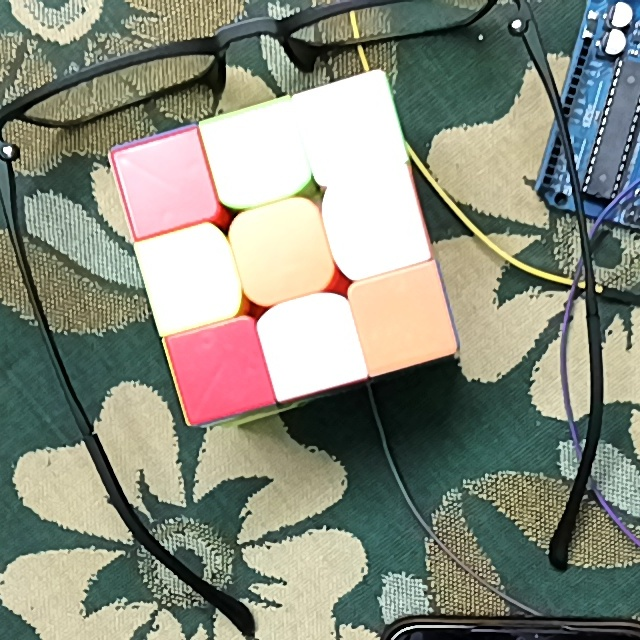tile: (273, 311, 351, 382), (317, 95, 393, 165), (218, 121, 295, 189), (370, 283, 438, 354), (338, 192, 407, 261), (129, 149, 195, 221), (249, 222, 318, 287), (160, 245, 227, 311), (187, 338, 251, 406)
